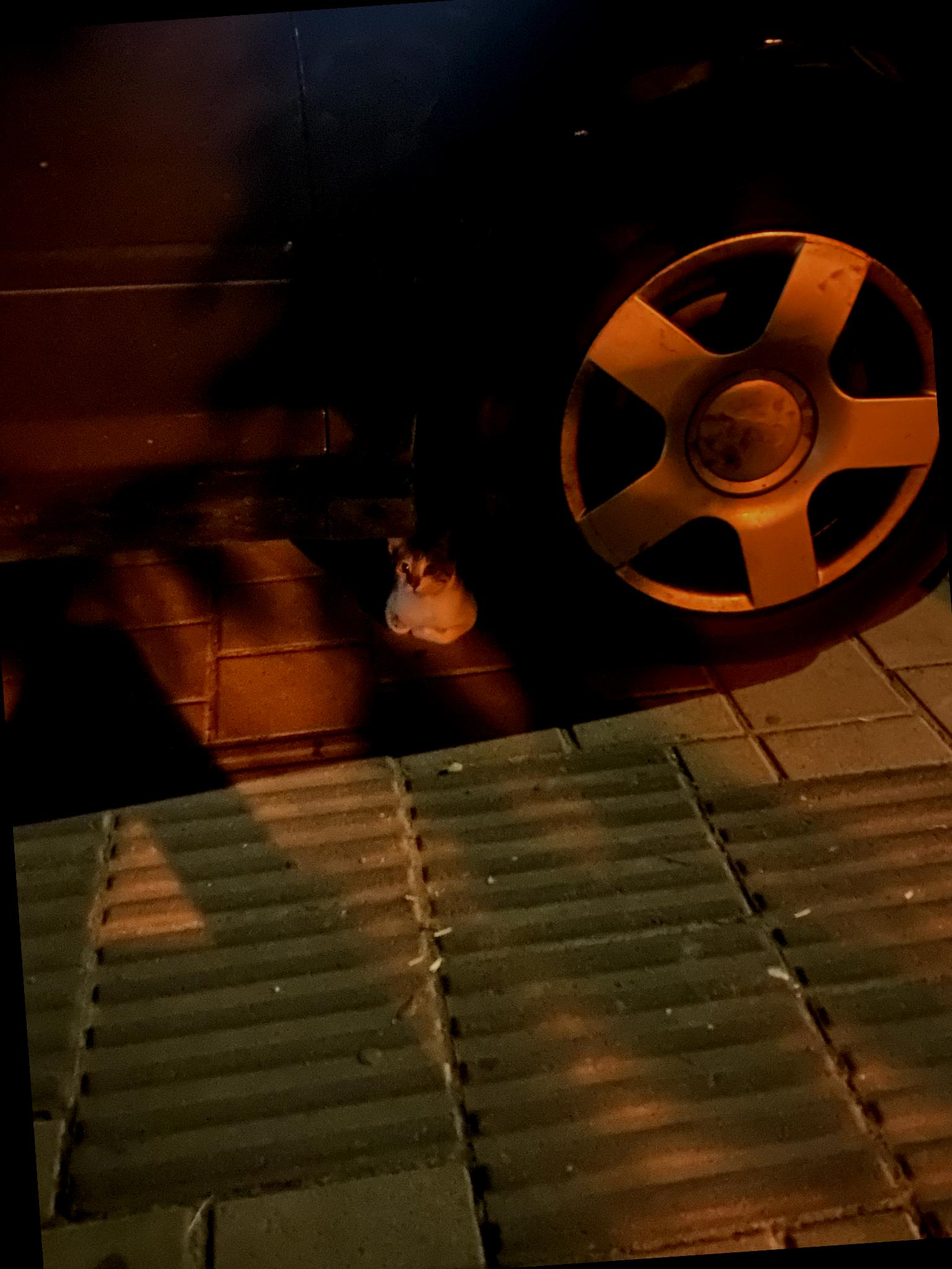macka: (379, 503, 516, 649)
